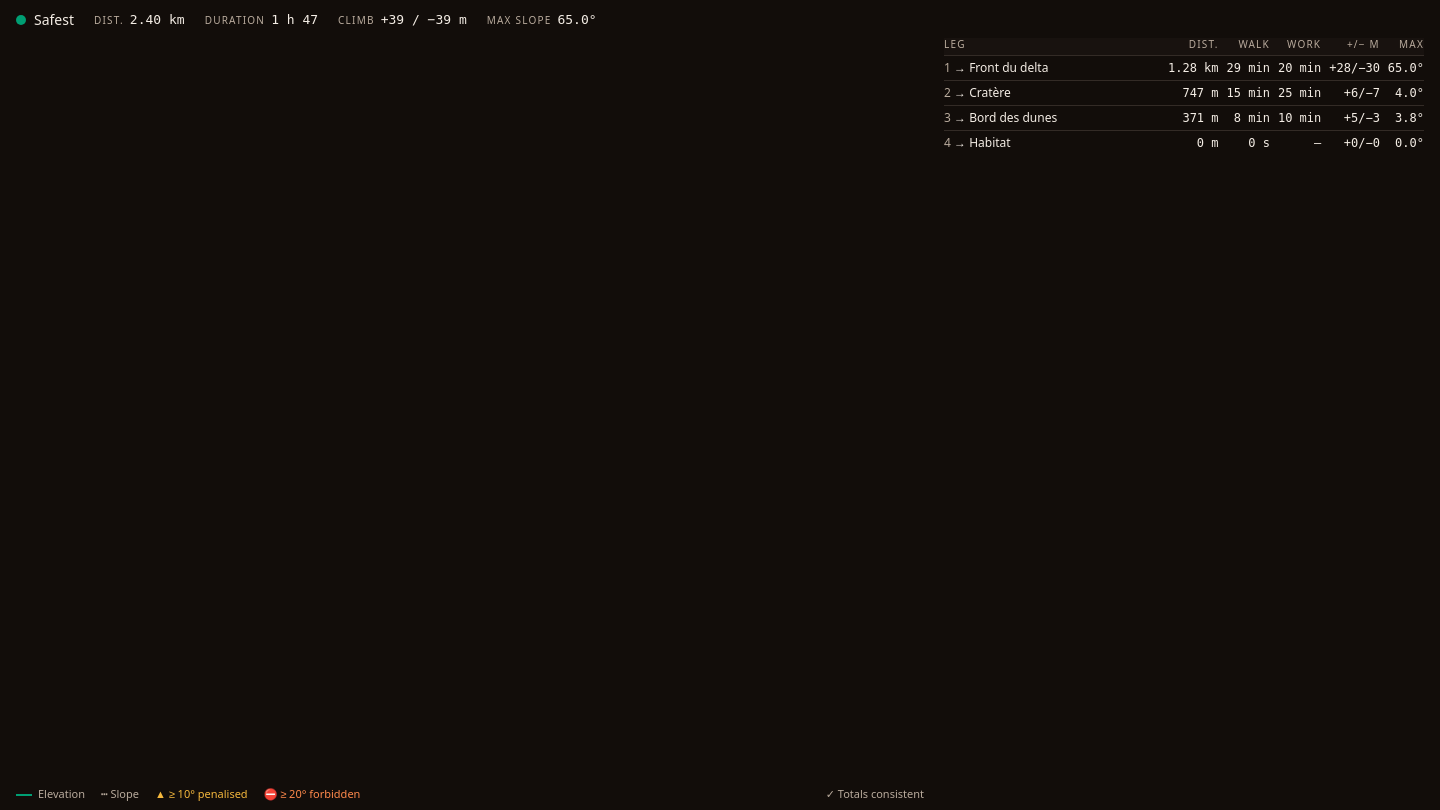
Test: panneau du profil › survoler une ligne du tableau déplace aussi le repère
This screenshot has width=1440, height=810.
Later steps or results of the test are not shown.
Hover over the row with test id "segment-1".
mouse_move(1184, 93)  # box [944,80,1424,105]
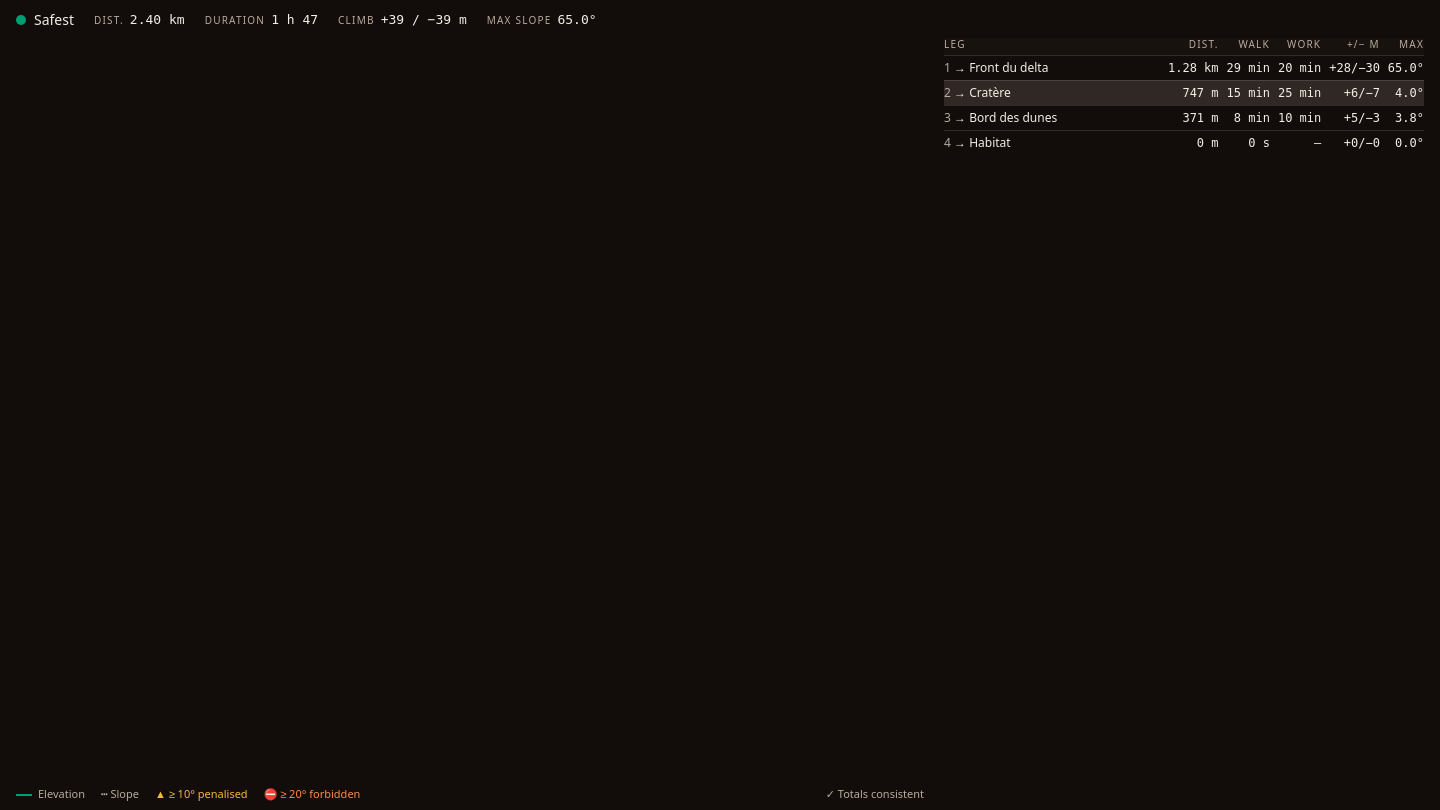
Expected: the row with test id "segment-1" is marked as current, [944,80,1424,105]
